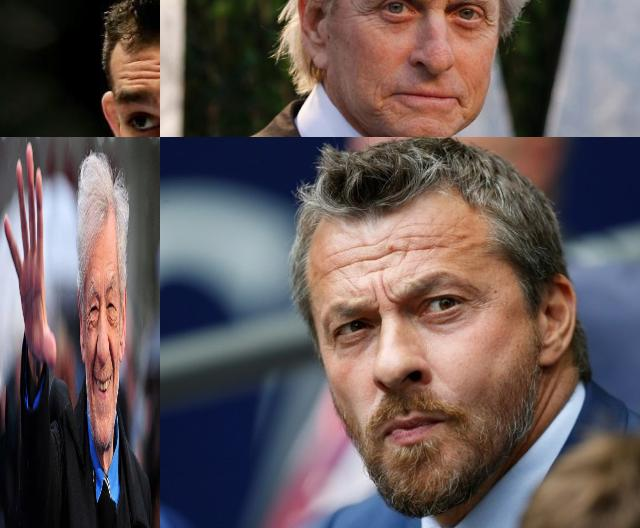chin: (374, 101, 392, 119)
crows_feet: (355, 0, 380, 21), (482, 12, 498, 34), (114, 305, 118, 335), (86, 307, 90, 333)
forehead: (405, 228, 449, 258), (372, 233, 401, 275), (118, 58, 160, 80), (324, 258, 366, 276), (326, 239, 366, 254), (91, 259, 100, 276), (105, 255, 114, 272)
frown_line: (370, 281, 396, 309), (427, 0, 441, 6), (444, 0, 454, 5)
gummy_smile: (92, 336, 97, 371), (110, 339, 114, 366)
masseter: (88, 372, 92, 403)
sad_smile: (456, 94, 468, 114)
